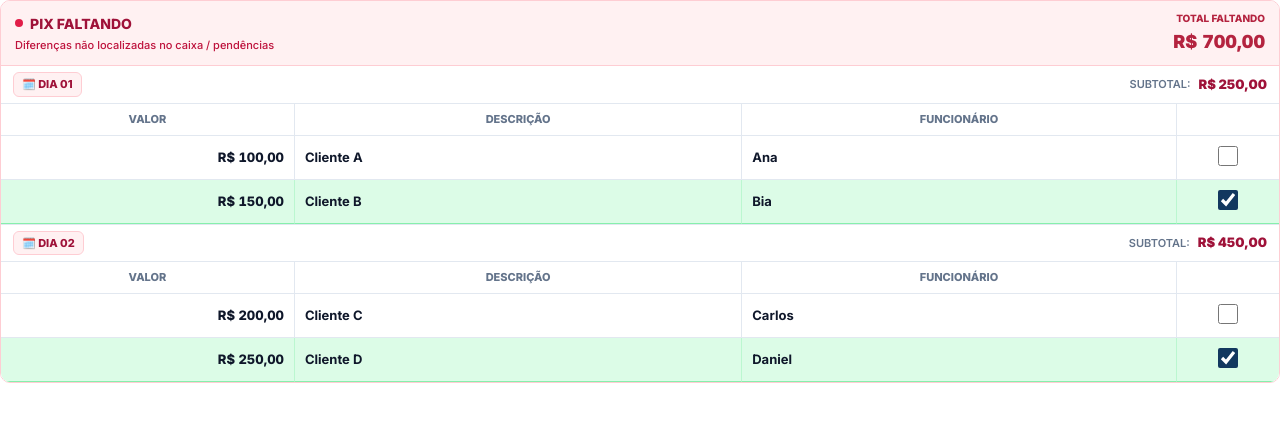
Test: 2. Ajuste do Menu de Contexto (Individual vs. Múltiplo) › todos os itens selecionados já conferidos: NÃO exibe "Marcar como conferidos"
# Seleciona item-2 (conferido) e item-4 (conferido)
Click the 2nd cell with class "rp-check-cell" at (1228, 202), box left=1177, top=180, right=1279, bottom=224
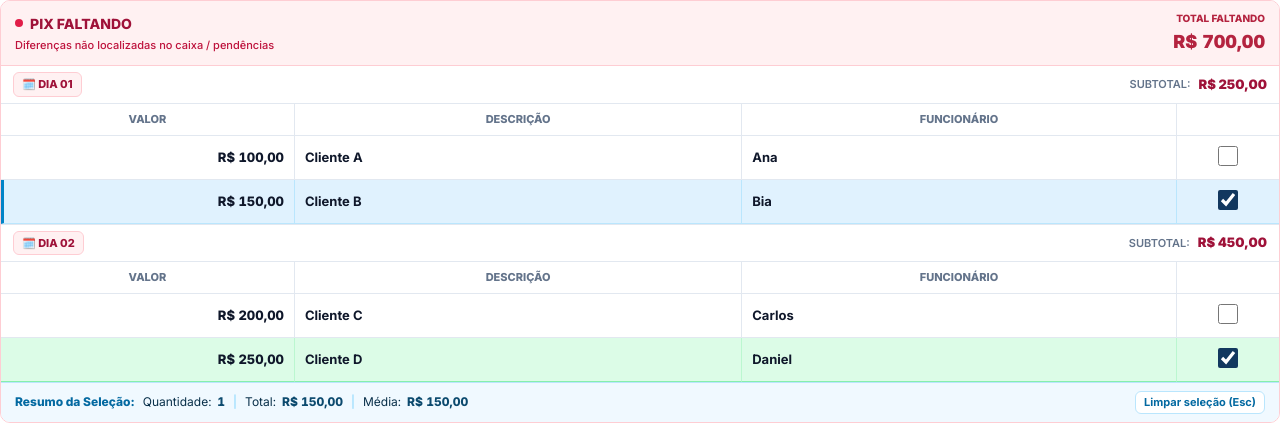
Click the 4th cell with class "rp-check-cell" at (1228, 360), box left=1177, top=338, right=1279, bottom=382
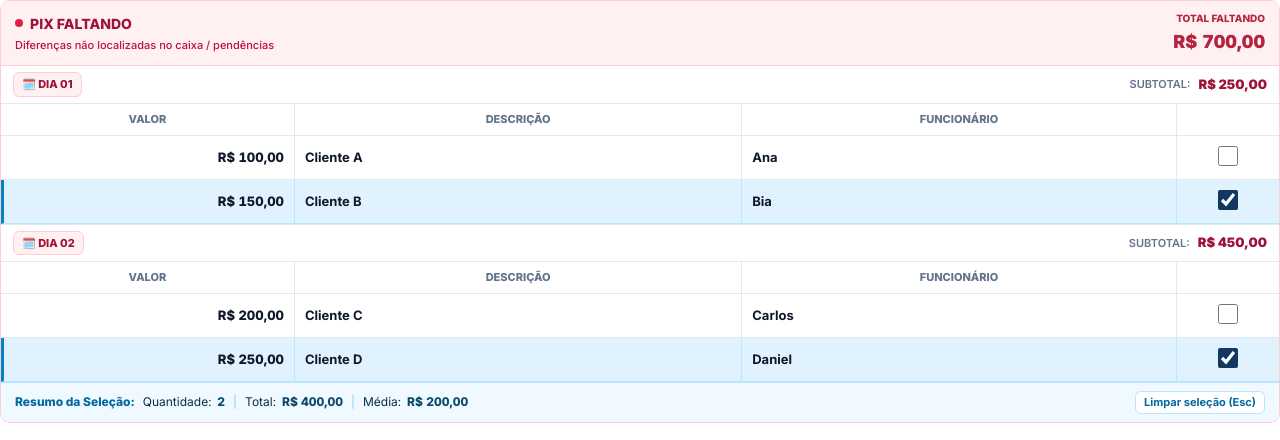
Right-click the row with id "report-row-item-2" at (640, 202), box left=1, top=180, right=1279, bottom=224
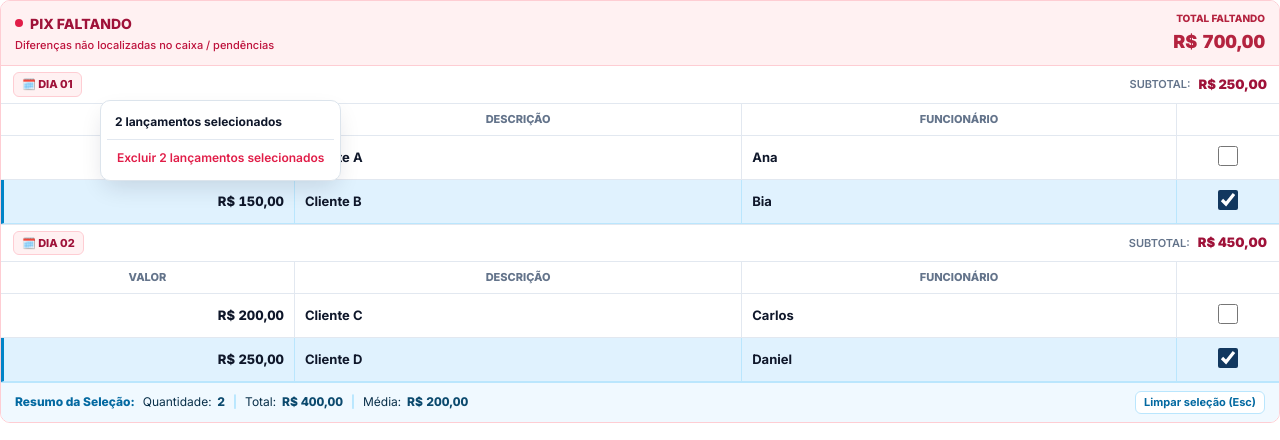
Now the text "2 lançamentos selecionados" is shown, box left=107, top=107, right=334, bottom=140
Now the button "Excluir 2 lançamentos selecionados" is shown, box left=107, top=142, right=334, bottom=174
